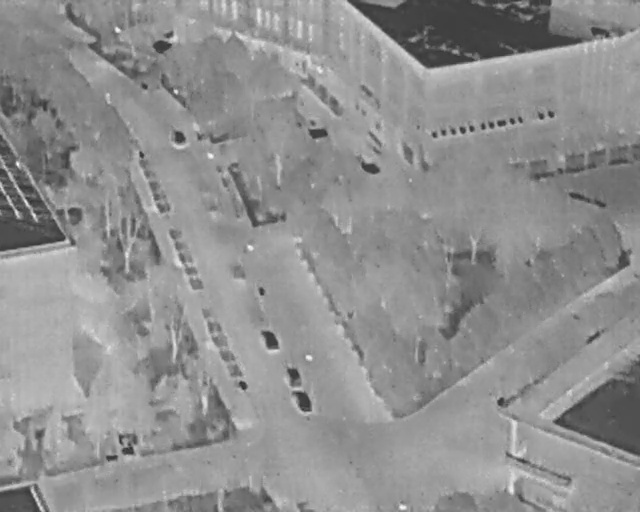Car: (291, 387, 313, 415), (260, 326, 281, 352), (283, 364, 303, 389), (173, 129, 186, 145)
